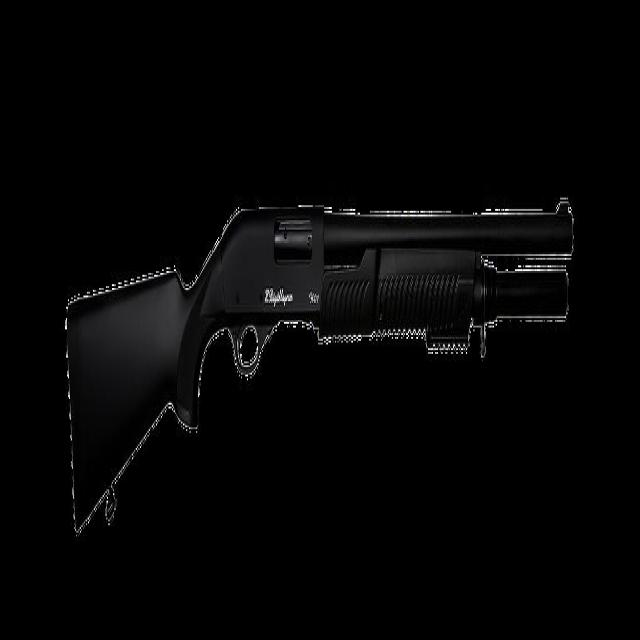weapon: (55, 186, 586, 548)
